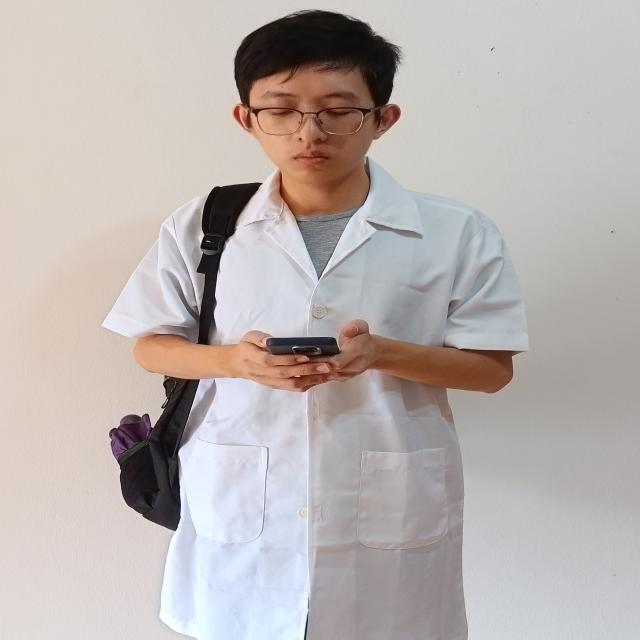person_with_labcoat: (103, 10, 528, 640)
